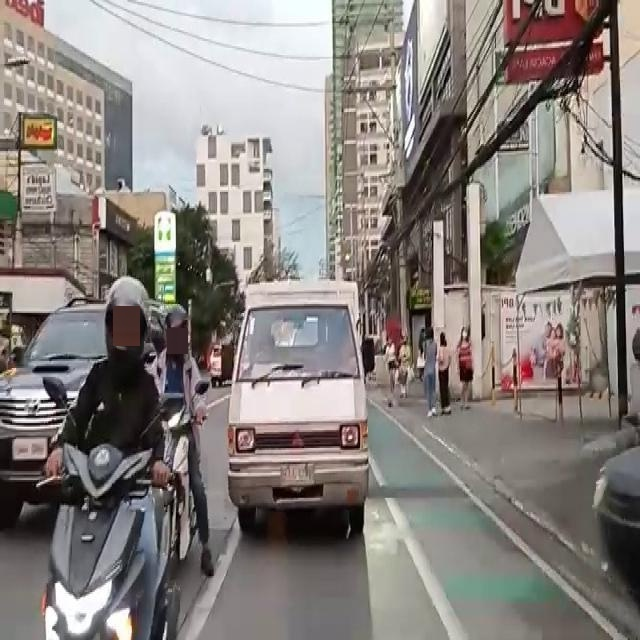car: (232, 286, 366, 550)
motorcycle: (53, 275, 160, 640), (154, 322, 189, 570)
